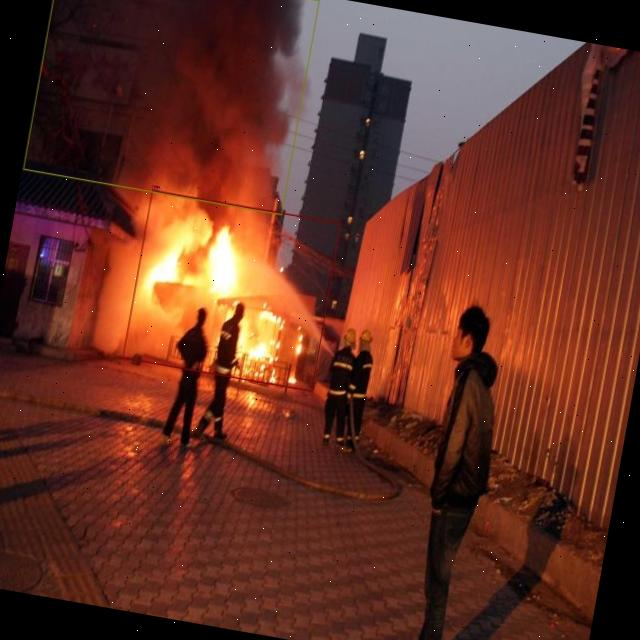fire: (121, 190, 341, 392)
smoke: (22, 0, 319, 214)
